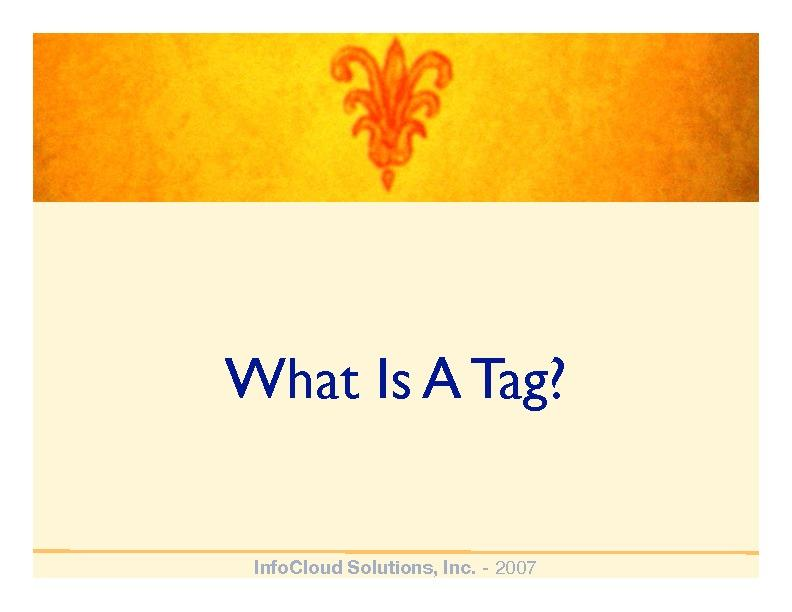title: (194, 332, 575, 426)
